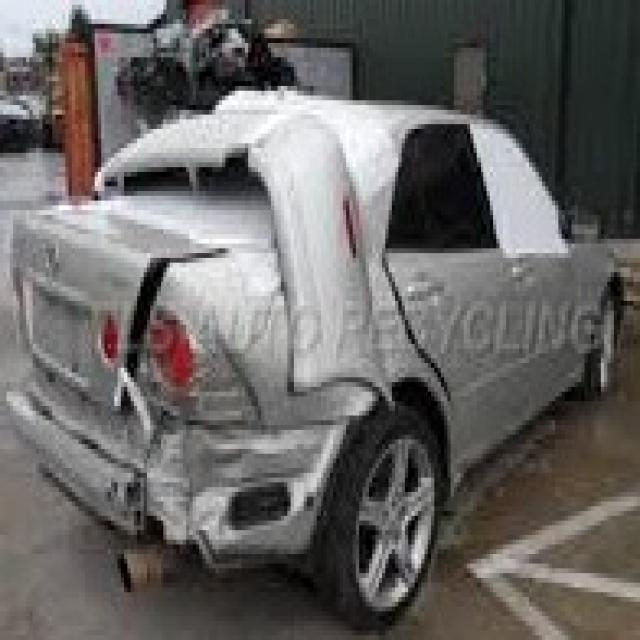moderate: (0, 81, 405, 640)
